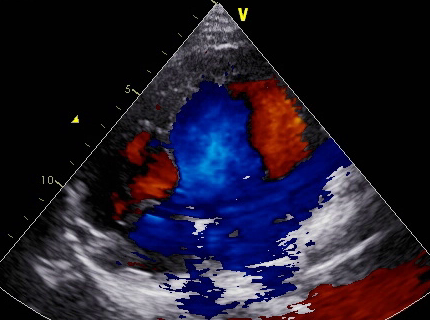MR: (208, 153, 302, 234)
